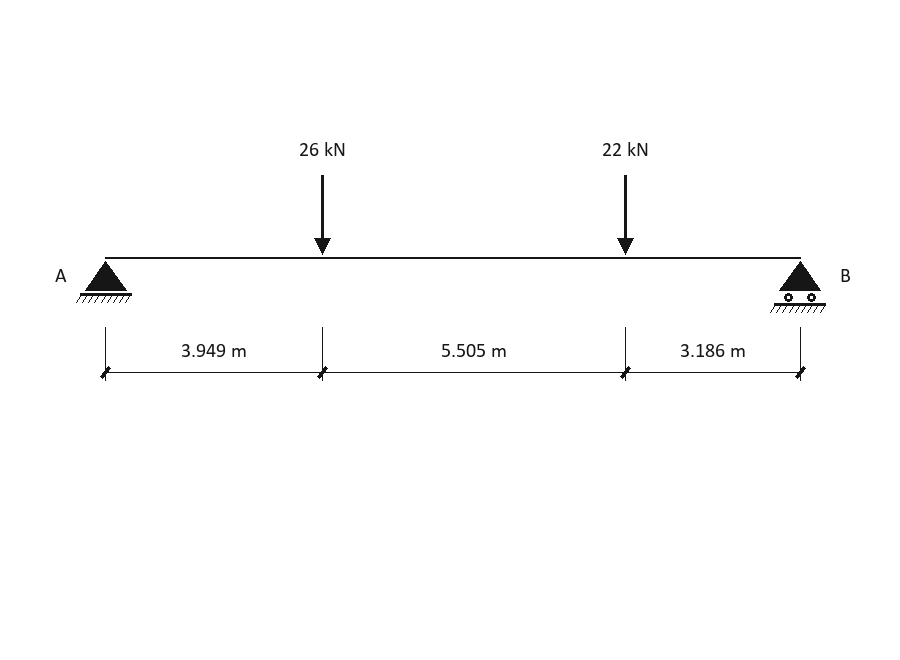pin_support: (76, 261, 132, 303)
point_load: (314, 175, 331, 255), (617, 175, 634, 255)
roller_support: (770, 261, 826, 313)
